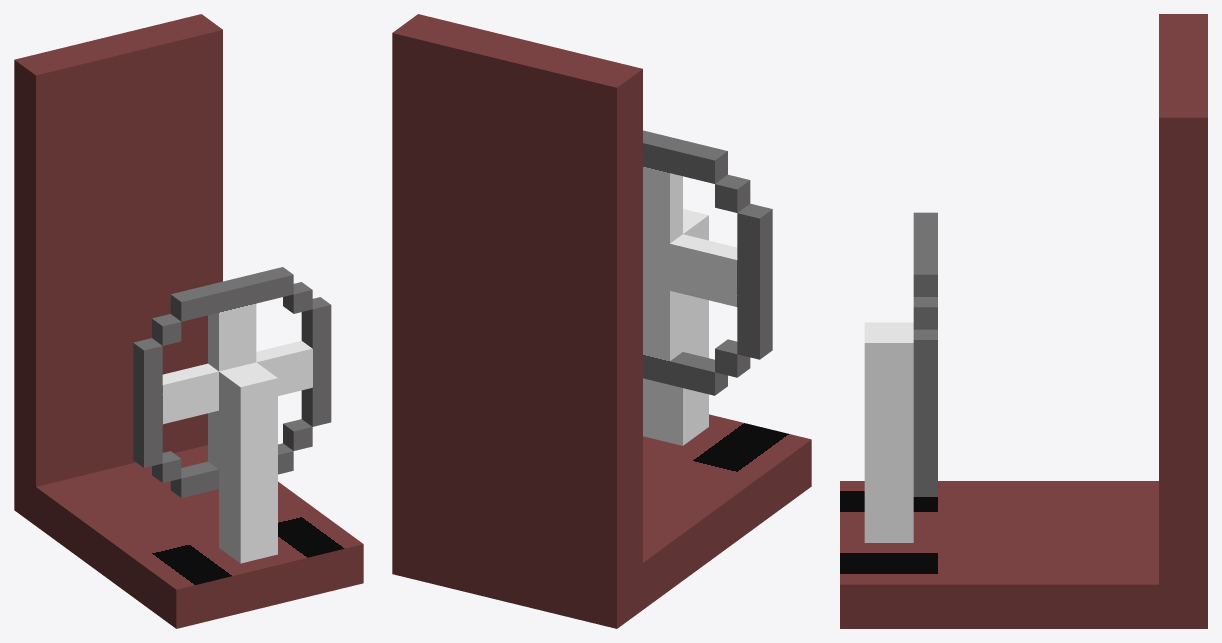
Rendered from Seat.obj.
The picture shows the model from 3 angles, left to right: view 1: azimuth 30°, elevation 25°; view 2: azimuth 150°, elevation 25°; view 3: azimuth 270°, elevation 25°; orthographic projection. The views are drawn at different scales.
Parts seen in each view (by area): view 1: cube; view 2: cube; view 3: cube.
Part boxes in pixels (bbox=[...]): cube: bbox=[14, 14, 363, 628]; cube: bbox=[392, 14, 811, 628]; cube: bbox=[840, 14, 1207, 628].
Size of the model in its own units: 0.625 by 1.44 by 0.9375.
1 material, 1 textured.
